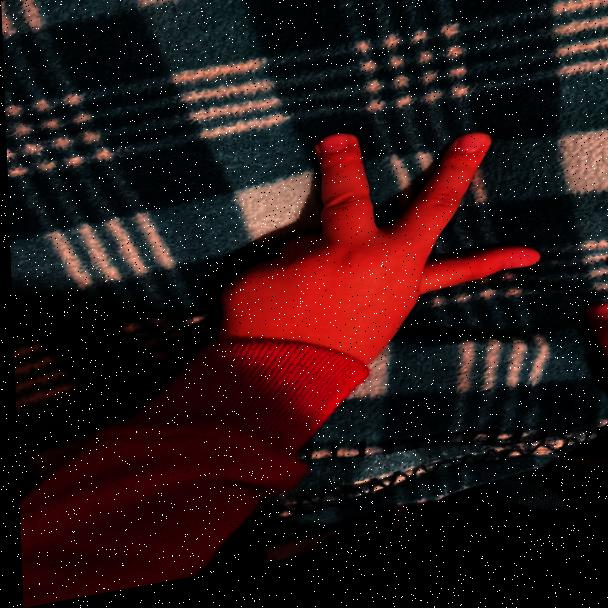three: (200, 107, 547, 397)
